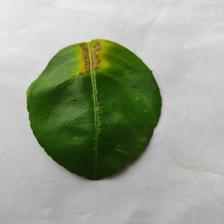canker: (62, 36, 119, 97)
